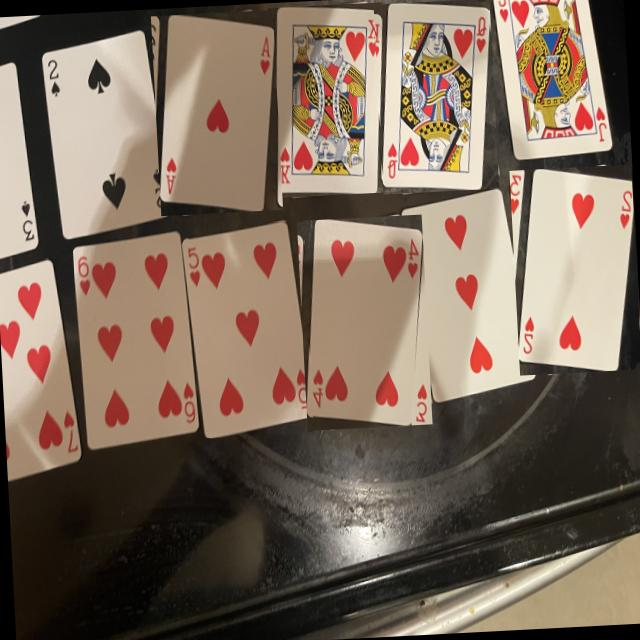2 of hearts: (519, 168, 634, 370)
2 of spades: (42, 29, 170, 238)
3 of hearts: (402, 189, 535, 401)
3 of spades: (0, 63, 38, 258)
4 of hearts: (308, 218, 423, 424)
5 of hearts: (183, 221, 313, 436)
6 of hearts: (73, 231, 198, 449)
7 of hearts: (0, 258, 82, 480)
Ace of hearts: (160, 14, 275, 210)
Jack of hearts: (494, 0, 612, 159)
King of hearts: (277, 5, 383, 193)
Queen of hearts: (383, 2, 490, 189)
